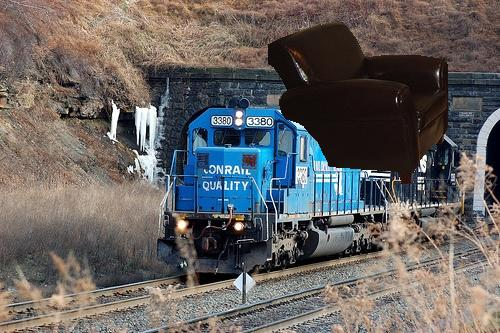tampered: (269, 23, 448, 184)
